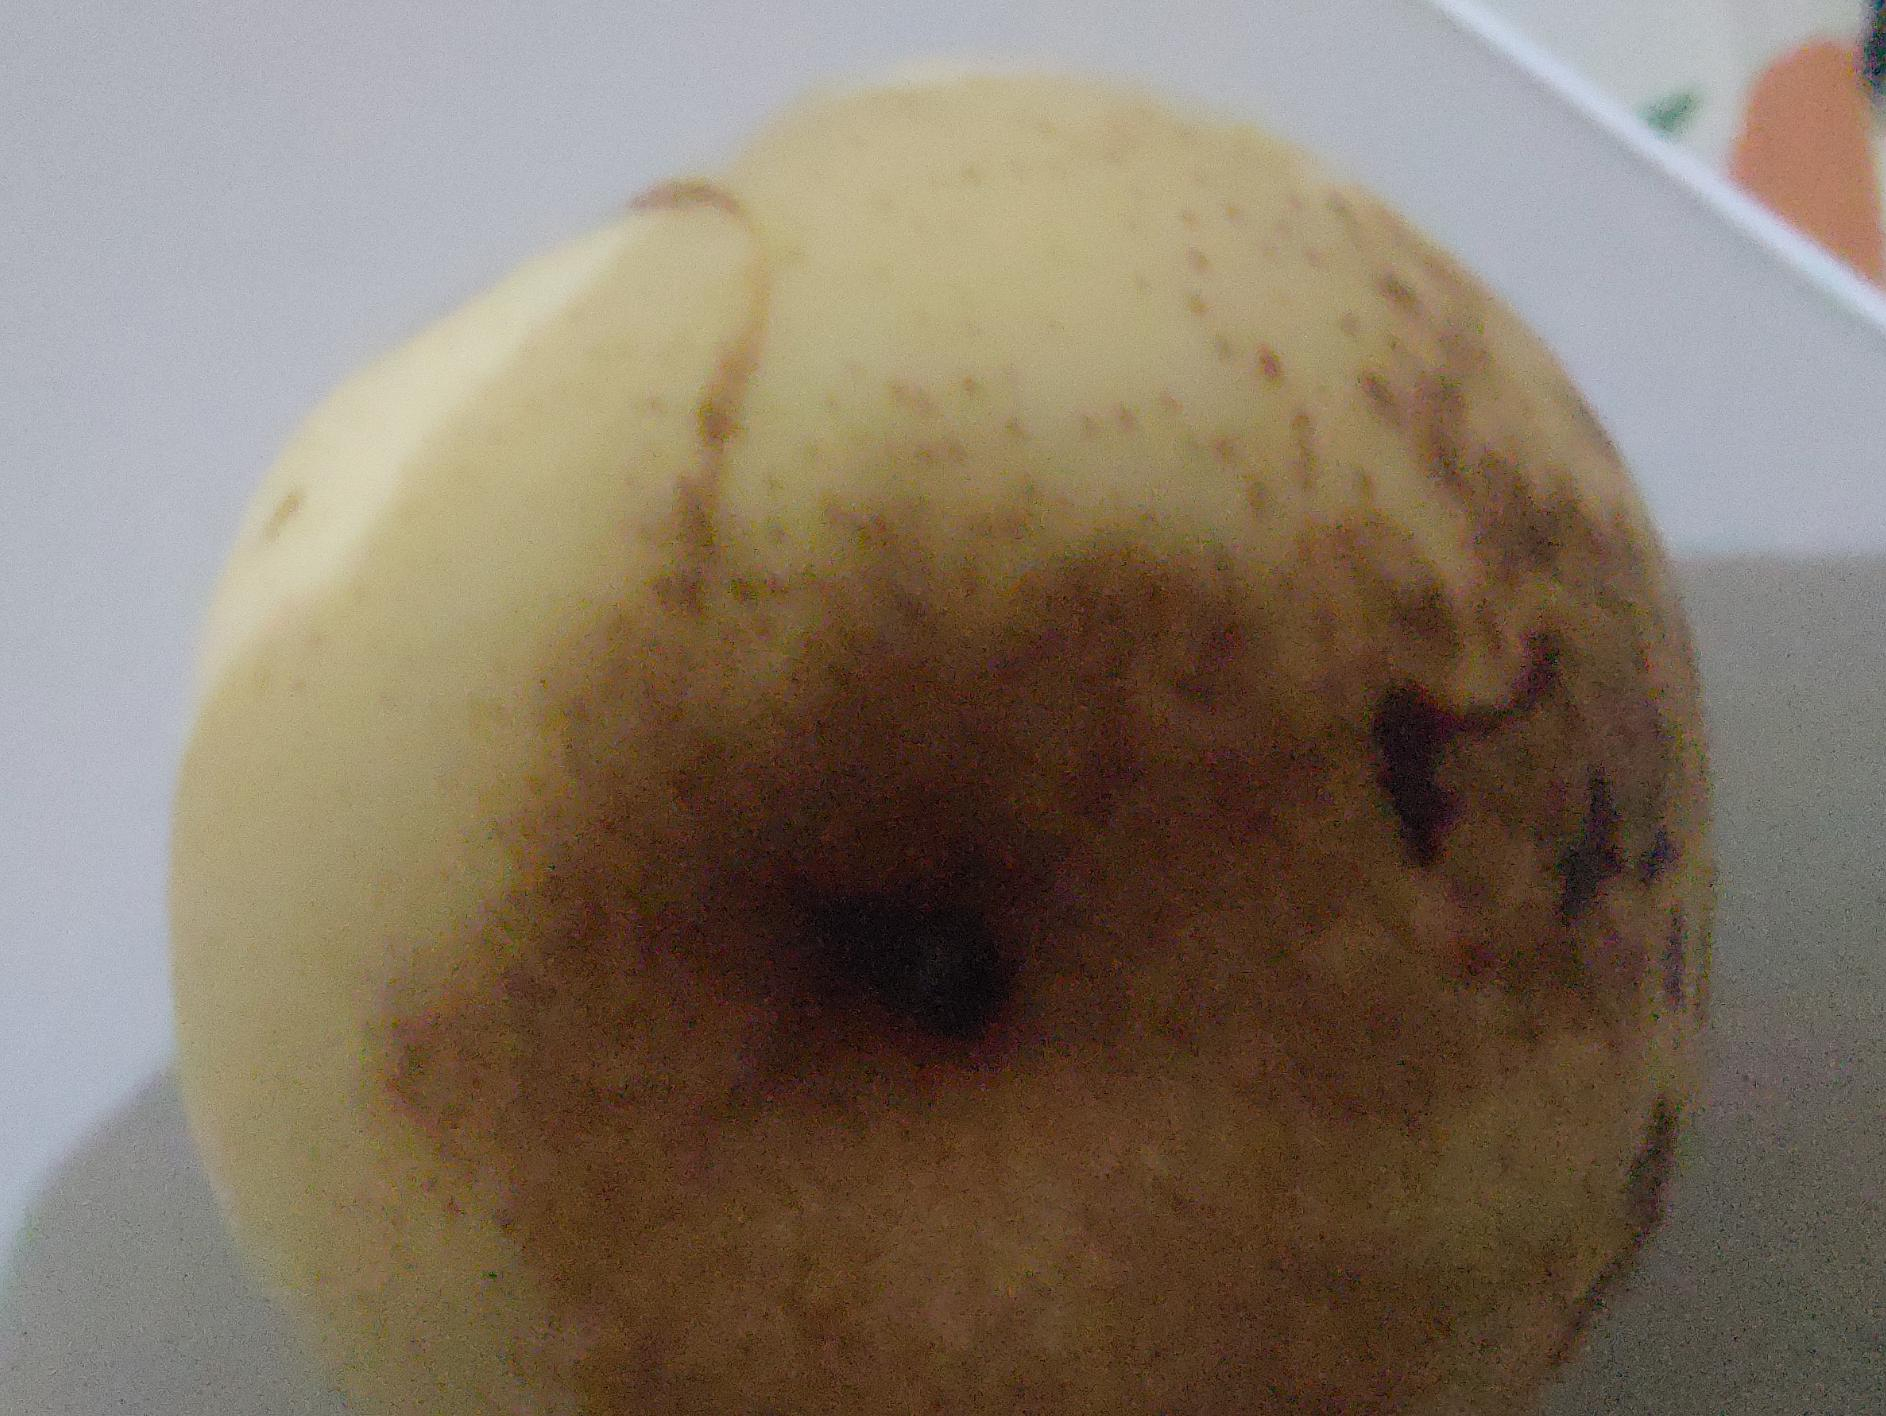Bad Pear: (129, 58, 1742, 1416)
